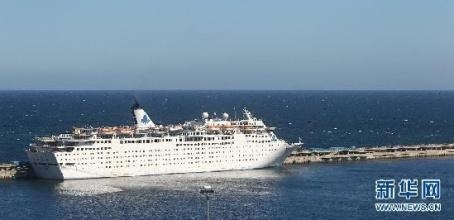youlun: (23, 99, 297, 180)
